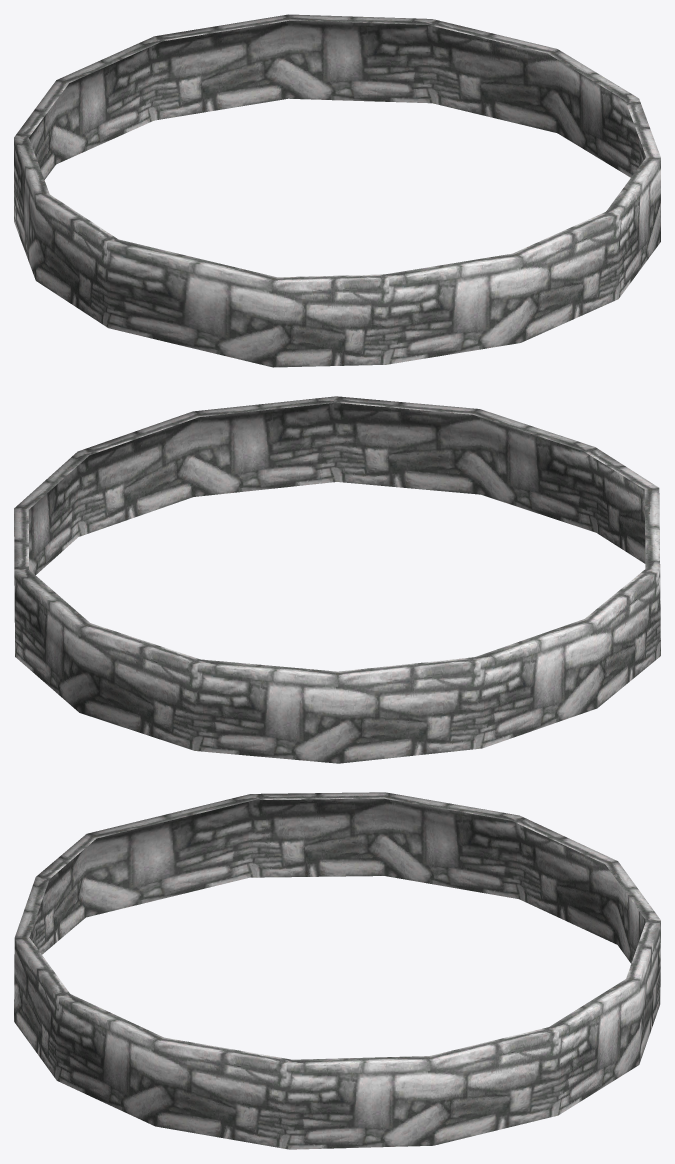
The model's file is HTOWN01_HANNA-BASE01.fbx.
3 views of the same model, one above another, from view 1: azimuth 30°, elevation 25°; view 2: azimuth 150°, elevation 25°; view 3: azimuth 270°, elevation 25° (orthographic). The views are drawn at different scales.
Visible parts, largest first — view 1: HTOWN01_HANNA-BASE01; view 2: HTOWN01_HANNA-BASE01; view 3: HTOWN01_HANNA-BASE01.
Boxes of the visible parts, x1,y1,x2,y2 form: HTOWN01_HANNA-BASE01: [14, 14, 660, 367]; HTOWN01_HANNA-BASE01: [14, 396, 660, 763]; HTOWN01_HANNA-BASE01: [14, 792, 660, 1149].
Bounding box in the file's own units: 69299 × 10617 × 69857.
Materials: 1 (1 with a texture image).
